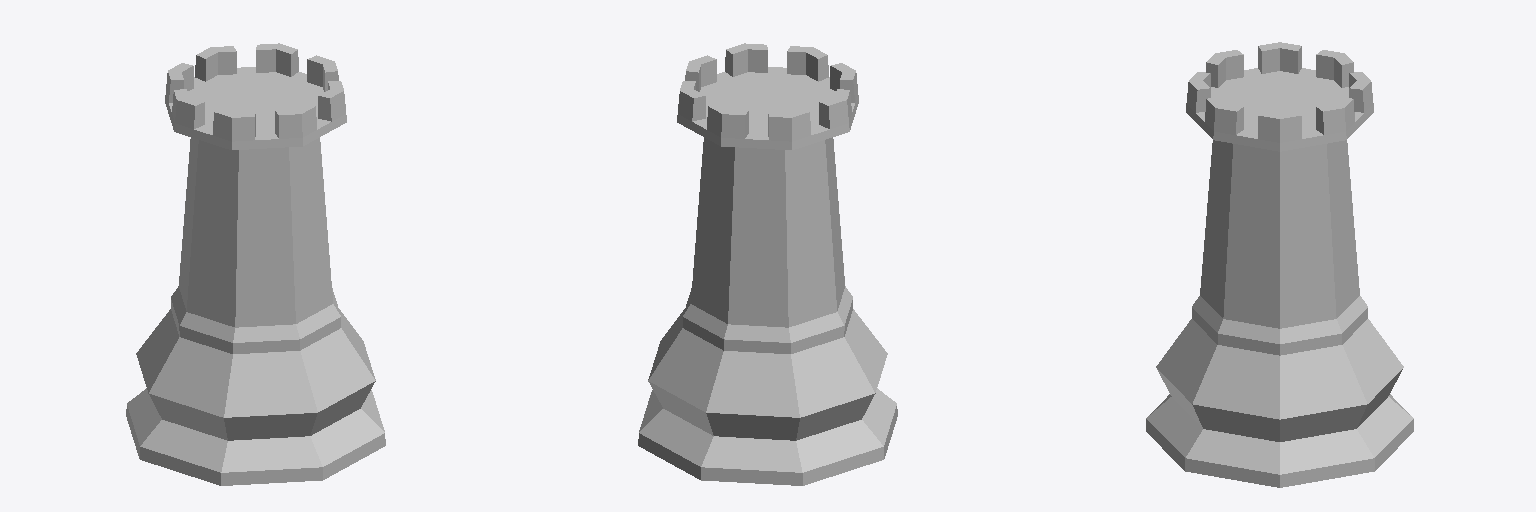
Rendered from tower.obj.
The picture shows the model from 3 angles: view 1: azimuth 30°, elevation 25°; view 2: azimuth 150°, elevation 25°; view 3: azimuth 270°, elevation 25°; orthographic projection.
Parts seen in each view (by area): view 1: Rook; view 2: Rook; view 3: Rook.
Part boxes in pixels (left/top/right/bottom): Rook: left=126, top=43, right=385, bottom=485; Rook: left=638, top=43, right=897, bottom=485; Rook: left=1146, top=42, right=1413, bottom=487.
Size of the model in its own units: 4 by 5.76 by 4.